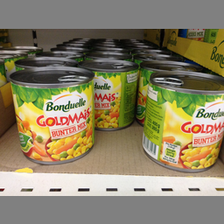corn: (10, 67, 95, 165), (141, 71, 224, 171), (78, 59, 139, 131)
